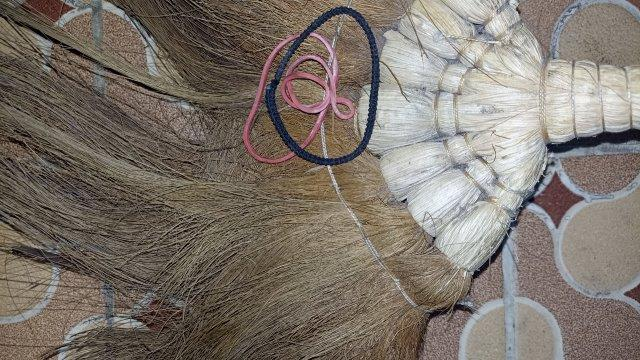karet: (243, 6, 379, 165)
